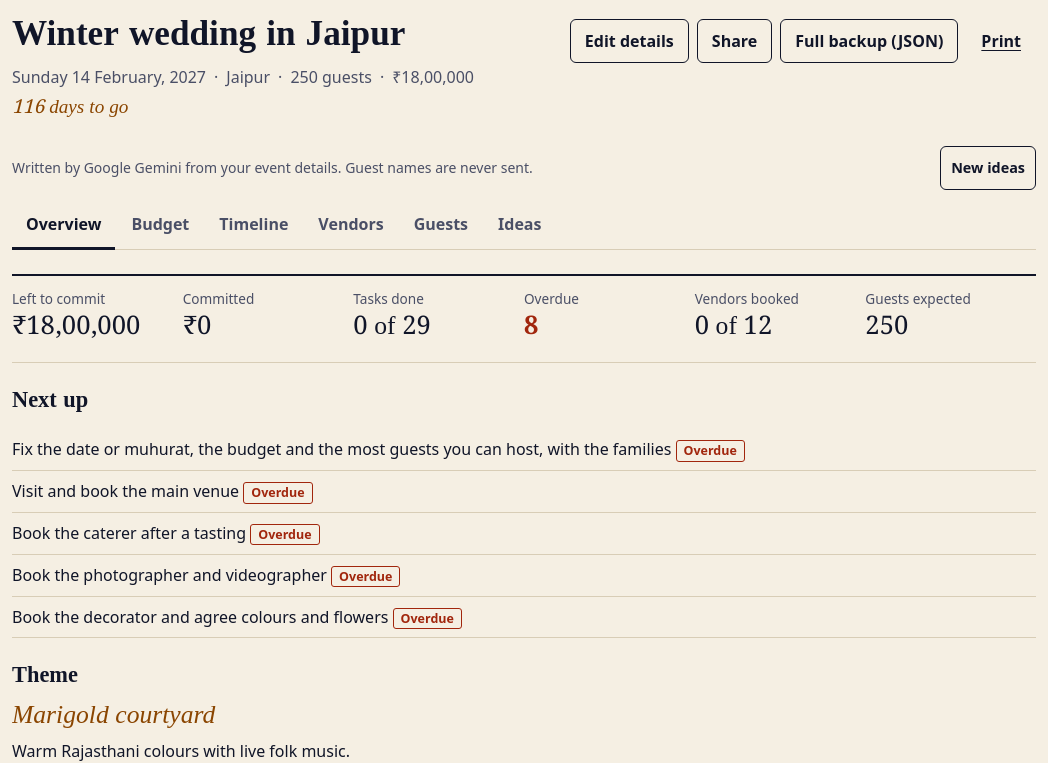
workspace edges › shows a saved idea that has no detail
The image size is (1048, 763).
Step 1. Click the tab "Ideas" → (520, 226), box top-left (484, 202), bottom-right (556, 250)
(page scrolled)
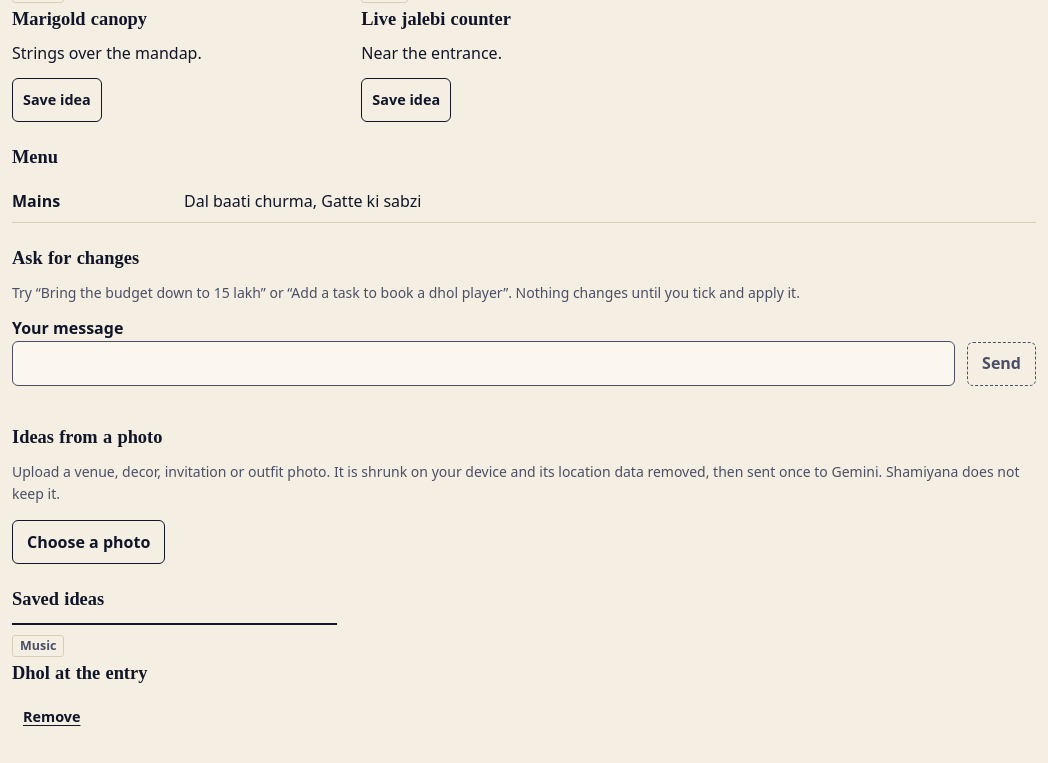
Now the text "Dhol at the entry" is shown, box top-left (12, 662), bottom-right (147, 691)
